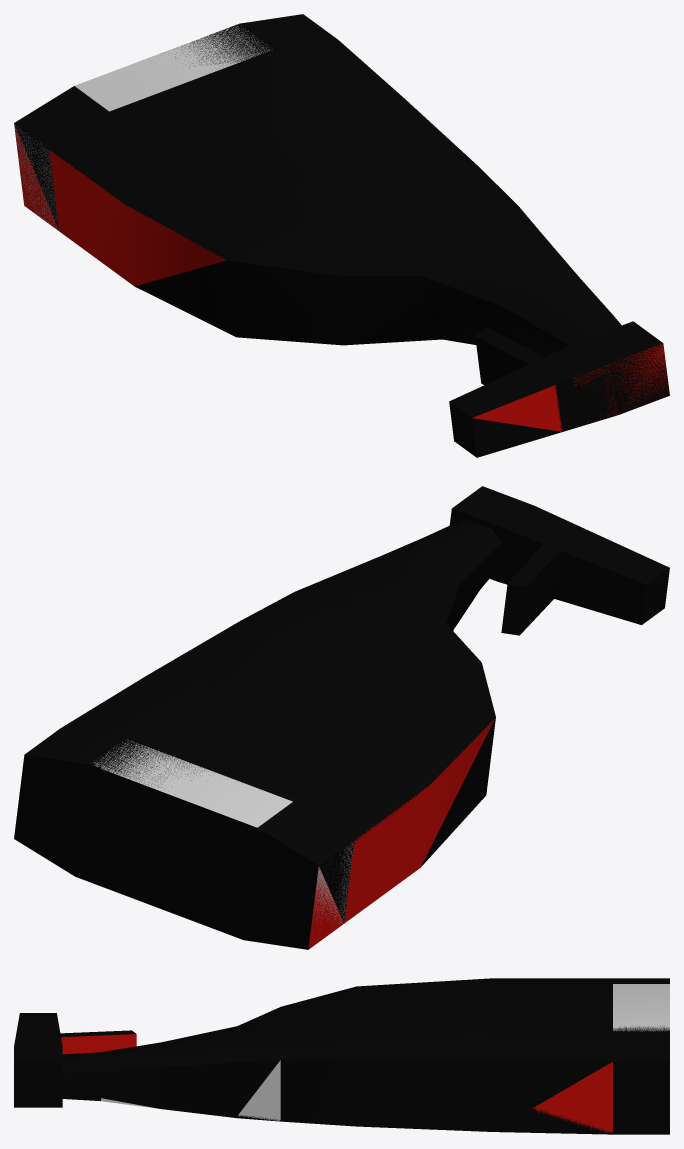
Rendered from kirihuki.fbx.
The picture shows the model from 3 angles, top to bottom: view 1: azimuth 30°, elevation 25°; view 2: azimuth 150°, elevation 25°; view 3: azimuth 270°, elevation 25°; orthographic projection. The views are drawn at different scales.
Parts seen in each view (by area): view 1: mqo_mesh; view 2: mqo_mesh; view 3: mqo_mesh.
Part boxes in pixels (x1=…): mqo_mesh: x1=14, y1=14, x2=669, y2=457; mqo_mesh: x1=14, y1=486, x2=669, y2=949; mqo_mesh: x1=14, y1=978, x2=669, y2=1134.
Bounding box in the file's own units: 86.85 × 37.59 × 203.
